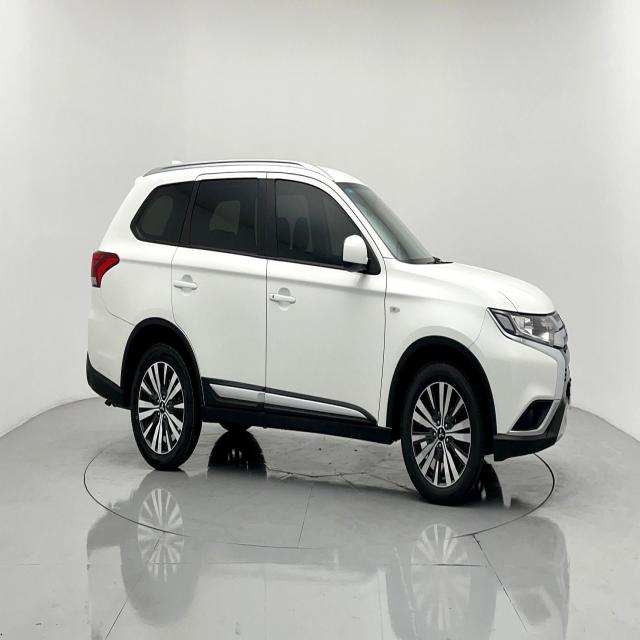light_vehicle: (85, 158, 572, 506)
